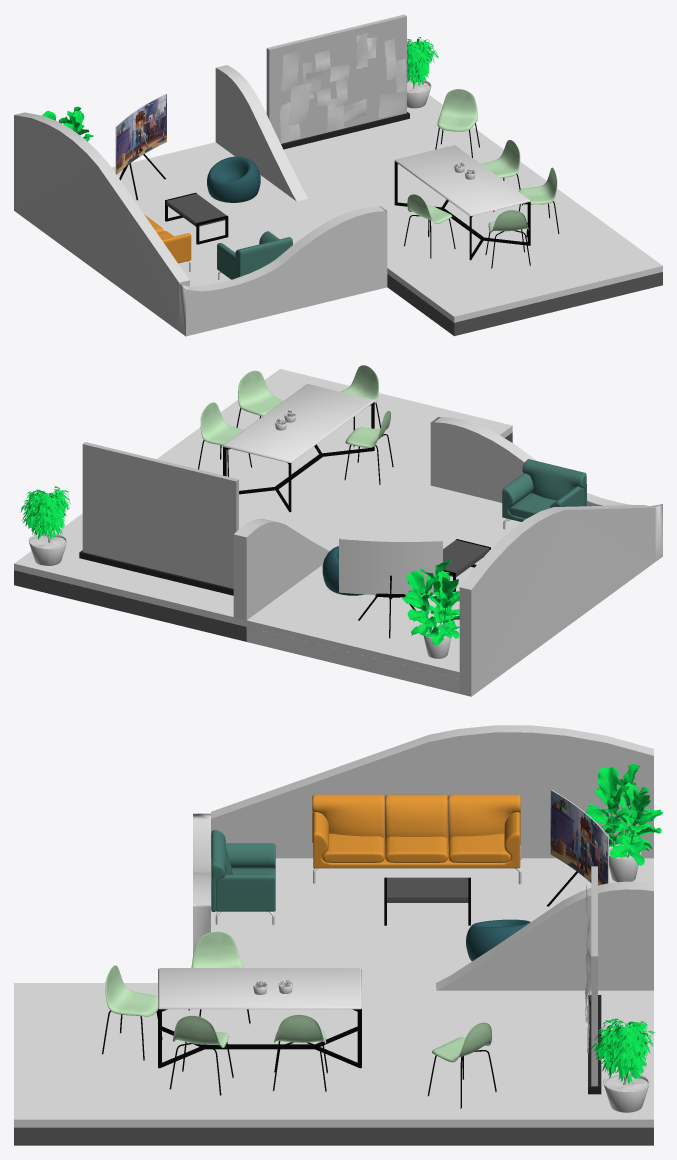
The model's file is newsecondmodelfarhan.glb.
3 views of the same model, one above another, from view 1: azimuth 30°, elevation 25°; view 2: azimuth 150°, elevation 25°; view 3: azimuth 270°, elevation 25° (orthographic). The views are drawn at different scales.
Parts seen in each view (by area): view 1: walls.003, walls.007, walls.005, items.020, items.021, walls.006, items.018, walls.002, items.001, items.005, items.004, items.010 (+11 smaller); view 2: walls.003, walls.007, items.020, walls.005, walls.006, items.018, items.013, walls.002, items.010, walls.004, items.005, items.015 (+8 smaller); view 3: walls.003, walls.007, items.008, walls.006, walls.002, items.018, items.010, items.015, items.005, items.001, Ficus_4_obj, walls.005 (+11 smaller).
Part boxes in pixels (x1,y1,x2,y2): walls.003: [111, 95, 662, 322]; walls.007: [14, 112, 189, 331]; walls.005: [179, 206, 387, 336]; items.020: [266, 14, 406, 143]; items.021: [280, 33, 406, 143]; walls.006: [215, 65, 307, 201]; items.018: [394, 145, 530, 216]; walls.002: [387, 272, 662, 336]; items.001: [116, 94, 166, 174]; items.005: [481, 140, 557, 232]; items.004: [207, 156, 260, 202]; items.010: [217, 231, 292, 279]; walls.003: [14, 369, 521, 678]; walls.007: [459, 505, 655, 696]; items.020: [82, 442, 238, 588]; walls.005: [430, 417, 662, 561]; walls.006: [233, 519, 329, 620]; items.018: [223, 384, 374, 463]; items.013: [339, 538, 442, 595]; walls.002: [14, 432, 512, 641]; items.010: [502, 459, 586, 521]; walls.004: [246, 627, 459, 693]; items.005: [200, 365, 378, 445]; items.015: [402, 558, 459, 645]; walls.003: [14, 858, 653, 1127]; walls.007: [211, 725, 653, 858]; items.008: [312, 794, 520, 868]; walls.006: [436, 881, 653, 990]; walls.002: [14, 1127, 653, 1145]; items.018: [158, 968, 361, 1009]; items.010: [211, 830, 275, 911]; items.015: [585, 764, 662, 865]; items.005: [105, 965, 326, 1047]; items.001: [550, 790, 607, 885]; Ficus_4_obj: [591, 1018, 654, 1083]; walls.005: [193, 813, 210, 954].
Bounding box in the file's own units: 6 × 1.68 × 6.08.
Materials: 14 (1 with a texture image).
